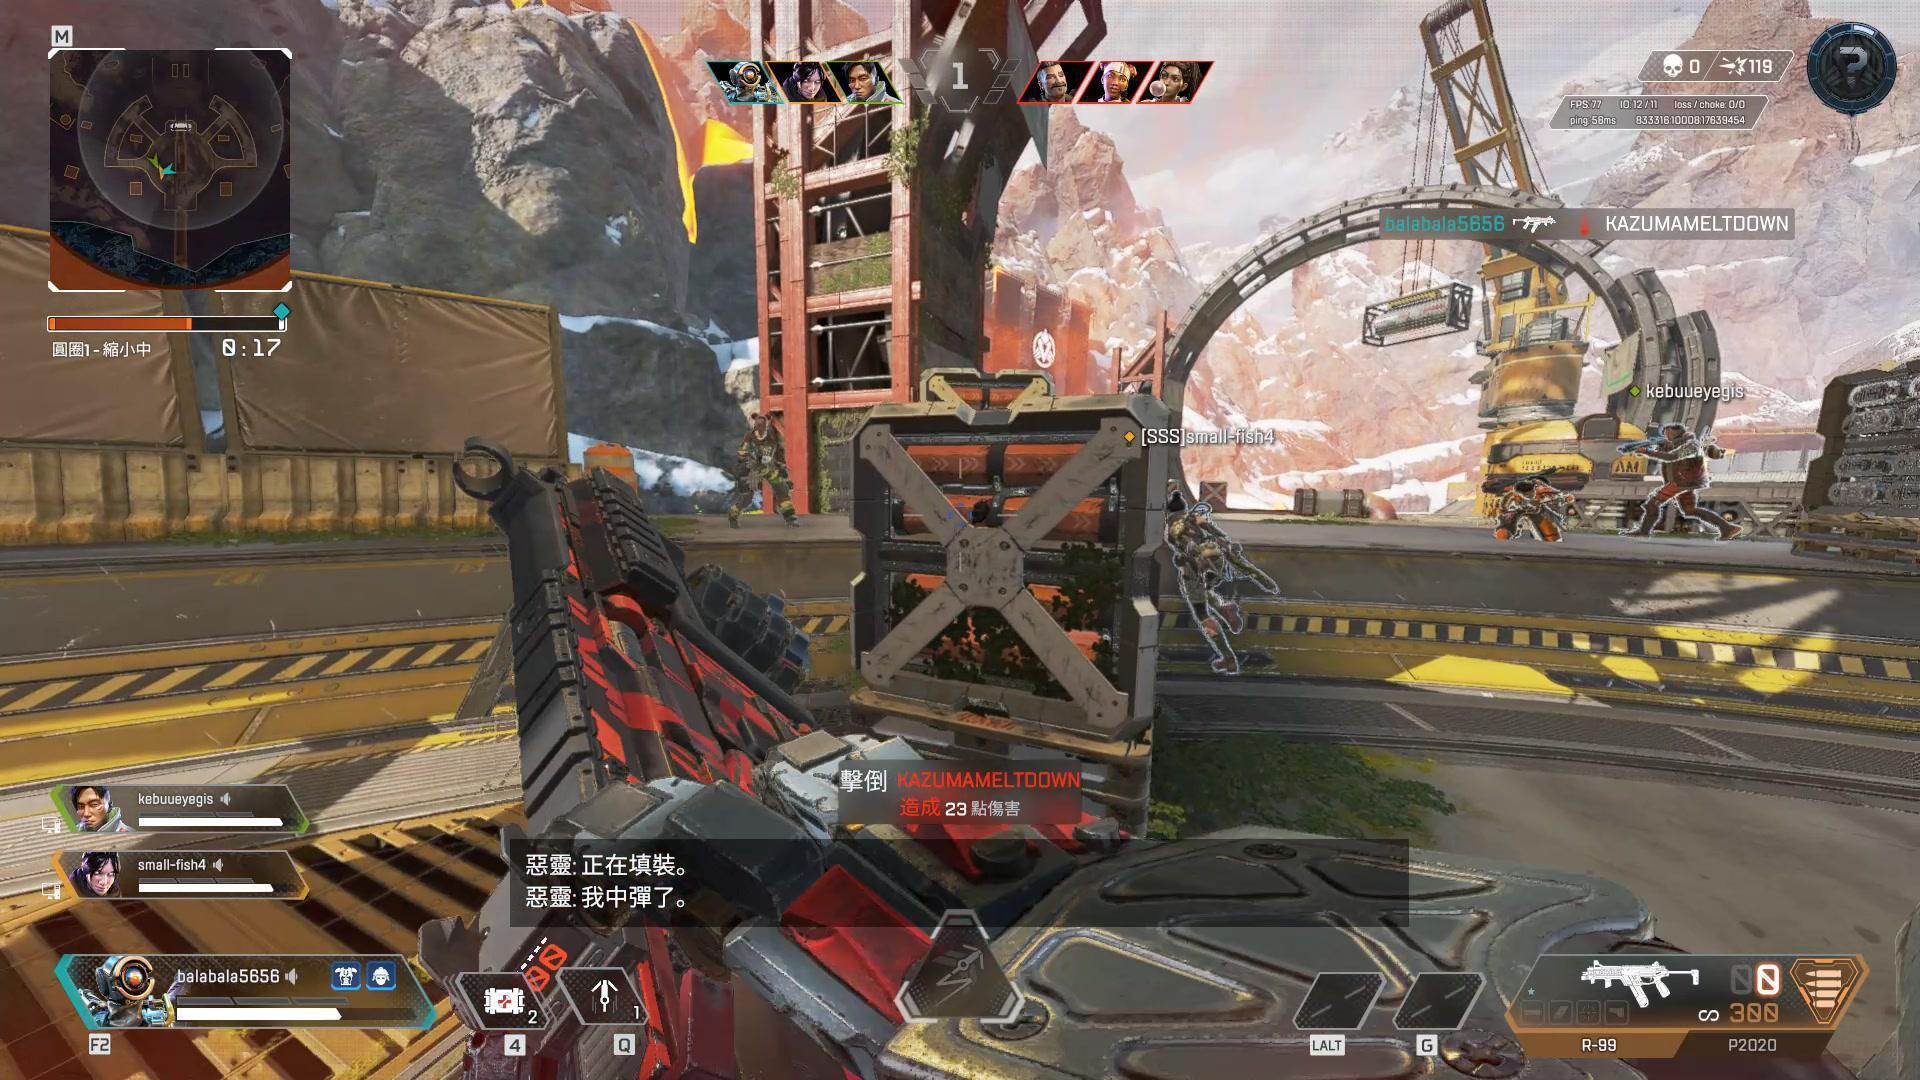avatar: (1164, 487, 1244, 677), (723, 408, 800, 534), (1655, 418, 1714, 522), (1488, 475, 1566, 547)
